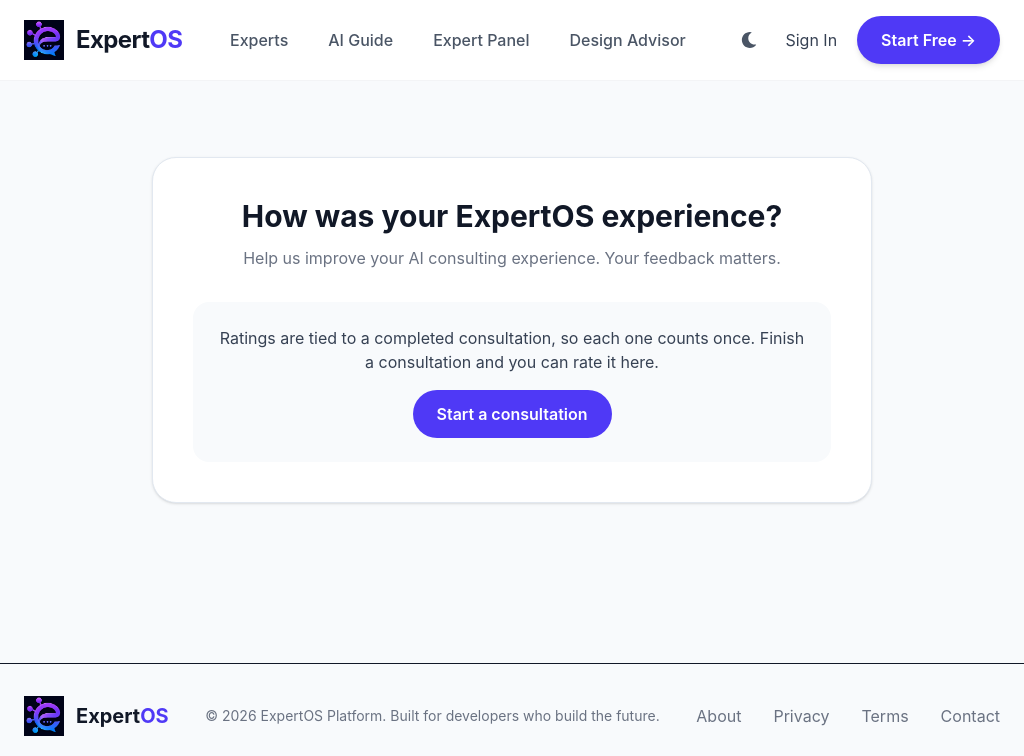
Routing and navigation › footer link About opens its page
(page scrolled)
Click the link "About" at [719, 716], box [696,704,741,728]
(page scrolled)
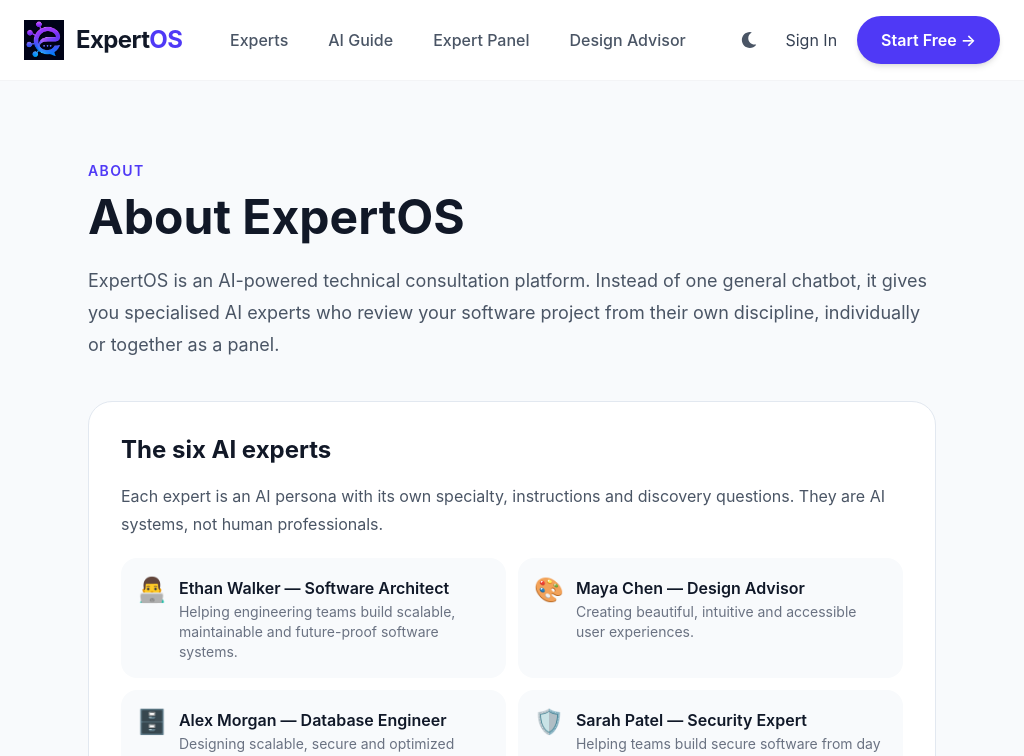
Expected: the heading "About ExpertOS" is shown, [88,187,465,246]
